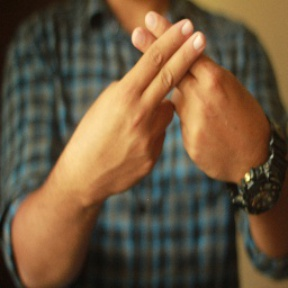F: (112, 6, 234, 128)
